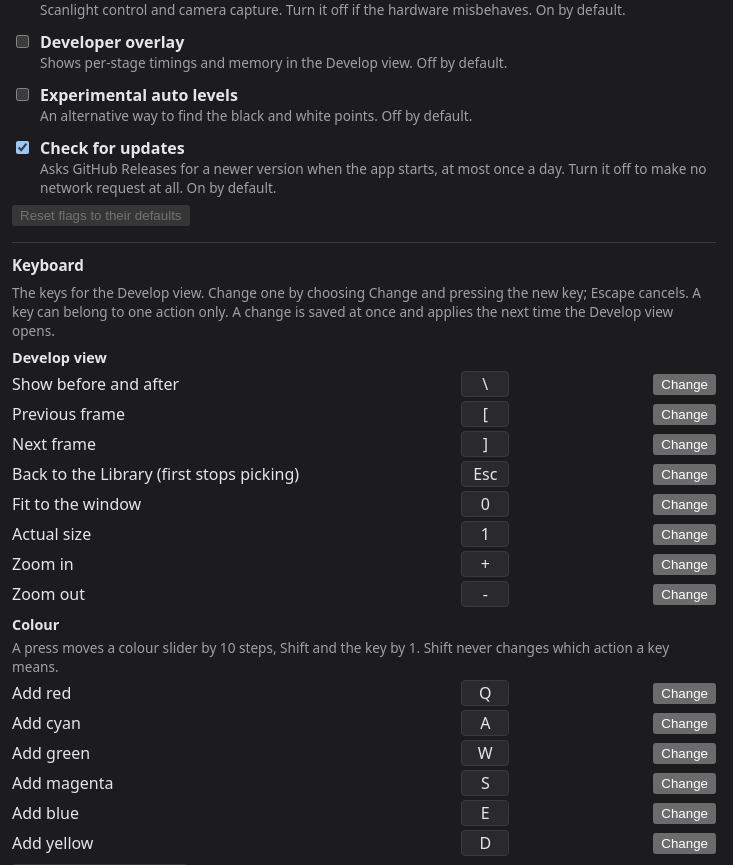
Test: the Keyboard section of Settings › changing a key › refuses Enter with a reason
(page scrolled)
Click the button "Change" in the row of "Add red": click(685, 693) [653,682,716,704]
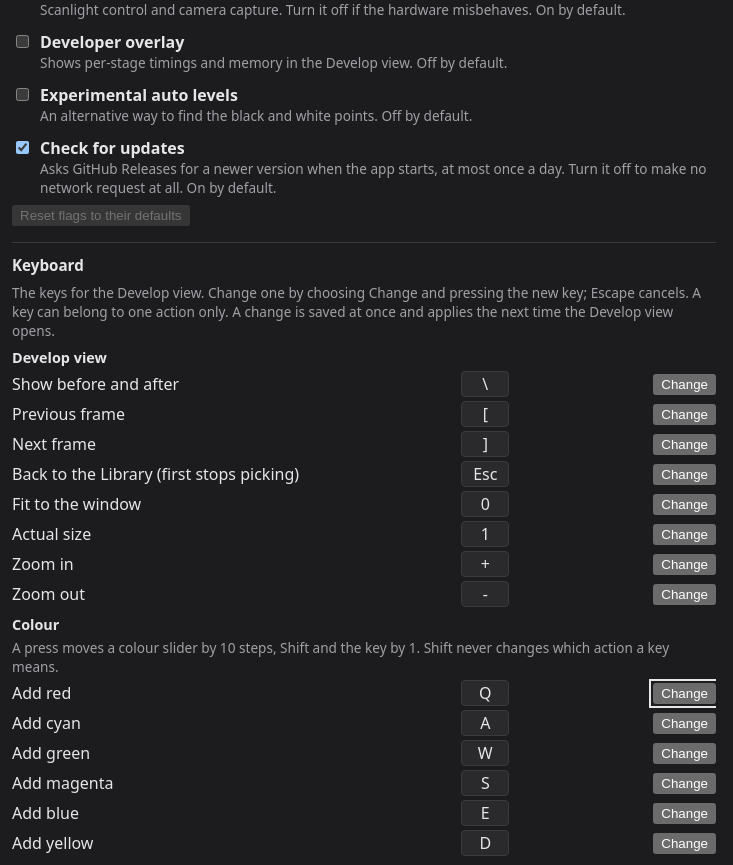
Press Enter
(page scrolled)
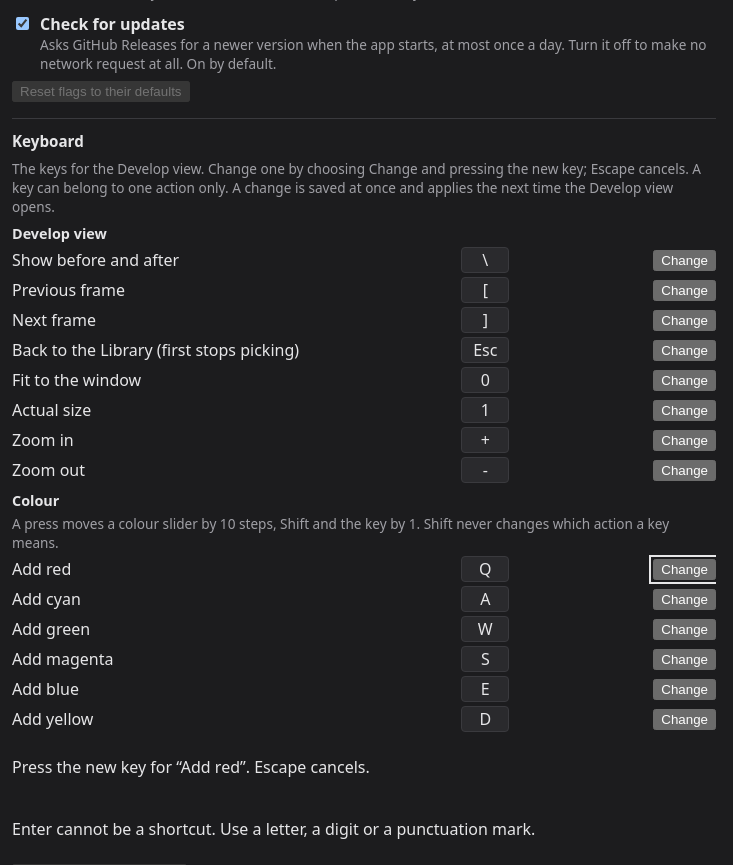
Expected: the message "Enter cannot be a shortcut. Use a letter, a digit or a punctuation mark." is shown, [12,818,535,840]
